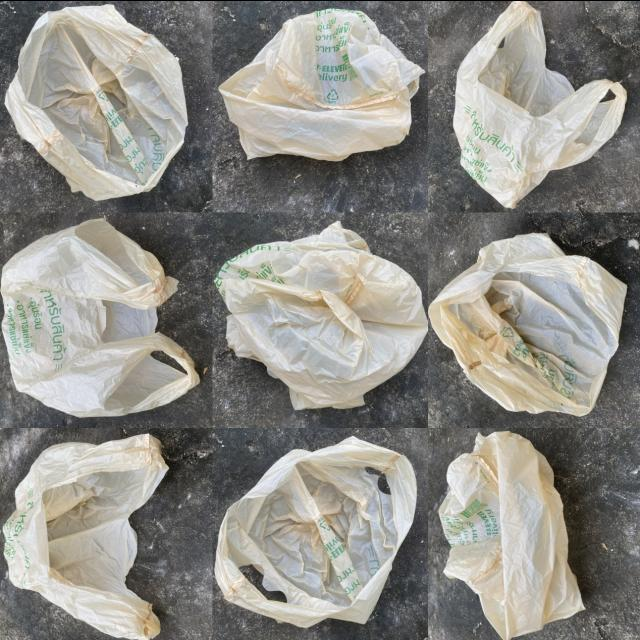plastik: (215, 221, 428, 409), (1, 218, 199, 415), (215, 435, 416, 626), (429, 232, 626, 415), (453, 0, 627, 207), (5, 4, 188, 199), (3, 433, 169, 639), (219, 7, 424, 160), (439, 430, 584, 640)
